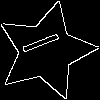I: (21, 26, 69, 56)
